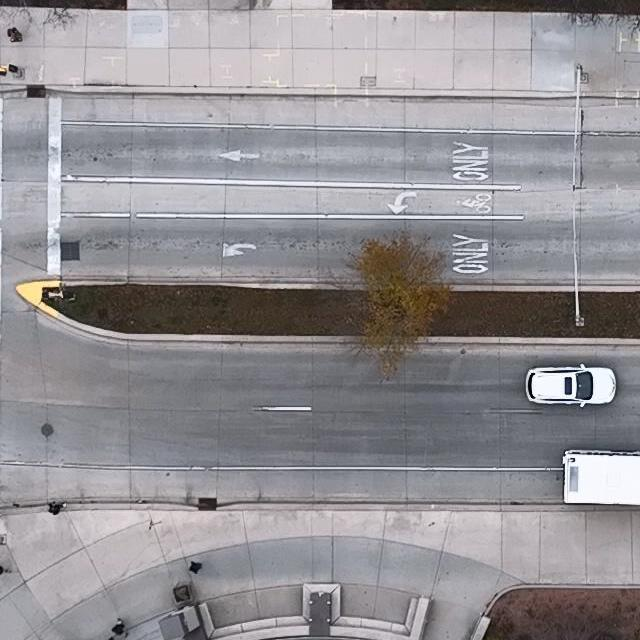car: (561, 450, 640, 507), (525, 362, 617, 407)
